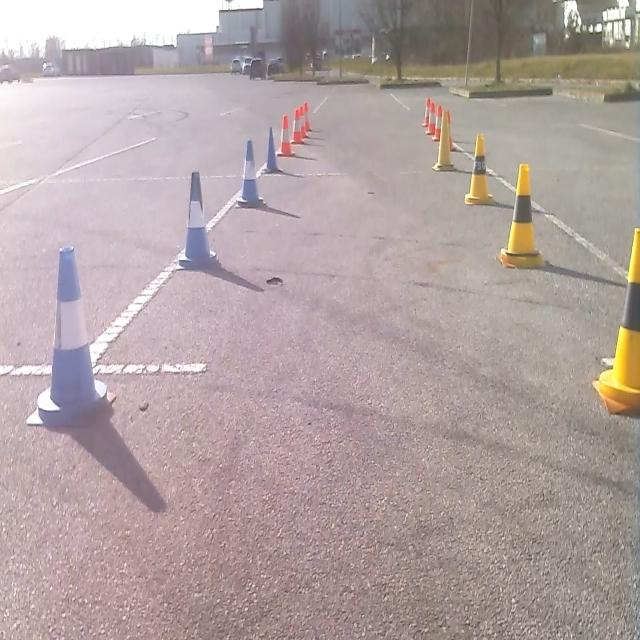blue_cone: (32, 242, 108, 428), (177, 168, 218, 270), (236, 137, 264, 208), (262, 125, 282, 174)
orange_cone: (276, 113, 295, 156), (432, 106, 446, 143), (292, 106, 303, 143), (296, 104, 308, 137), (425, 100, 436, 134), (301, 100, 312, 131), (422, 96, 430, 126)
yellow_cone: (592, 225, 639, 416), (499, 161, 545, 269), (464, 131, 494, 206), (432, 109, 454, 171)
